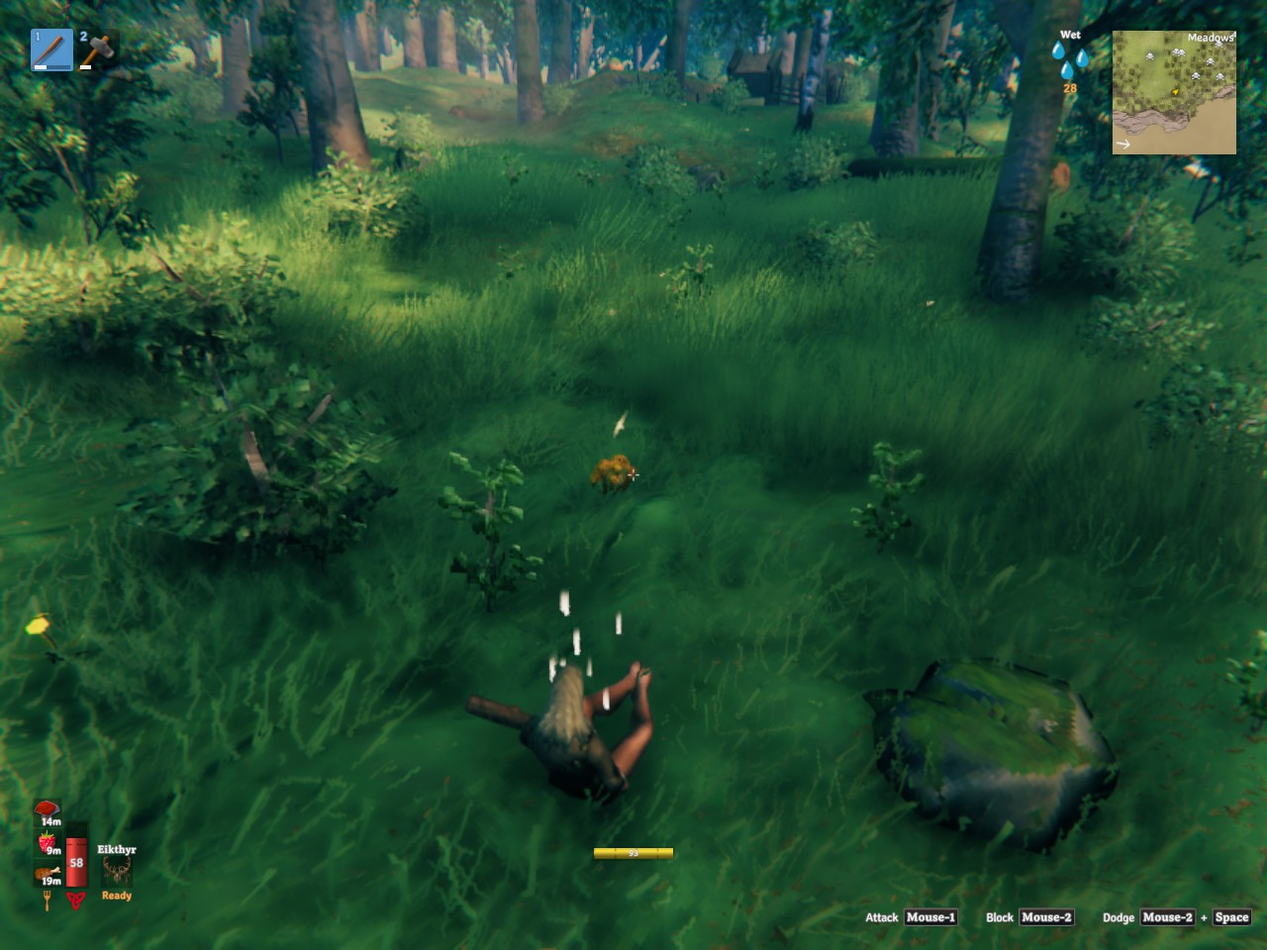Food Indicator: (36, 797, 63, 891)
Health Bar: (63, 820, 90, 891)
Hotbar: (25, 21, 398, 78)
Resin: (591, 454, 636, 493)
Stamina Bar: (586, 845, 678, 865)
Status Indicator: (1042, 22, 1109, 101)
